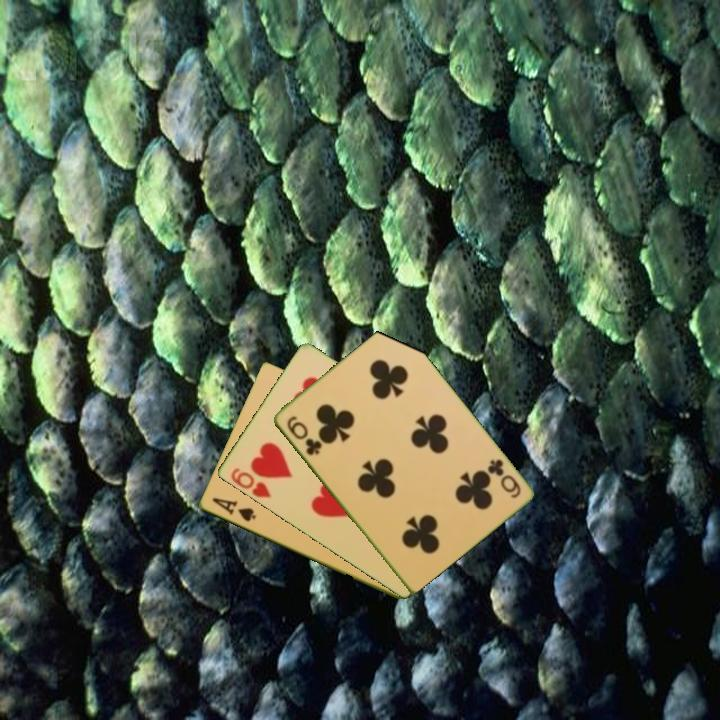6c: (283, 412, 324, 459), (483, 455, 523, 501)
6h: (227, 464, 274, 501)
As: (208, 494, 258, 525)
